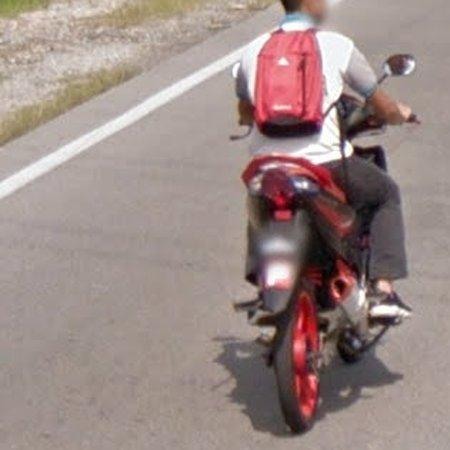motorcycles: (235, 155, 412, 432), (326, 93, 386, 153)
